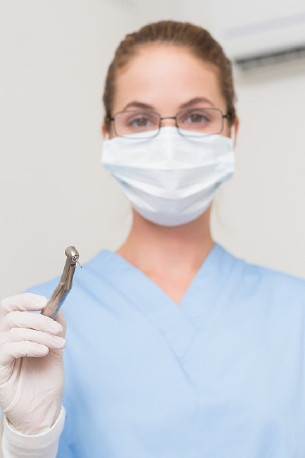Mask: (102, 80, 250, 228)
